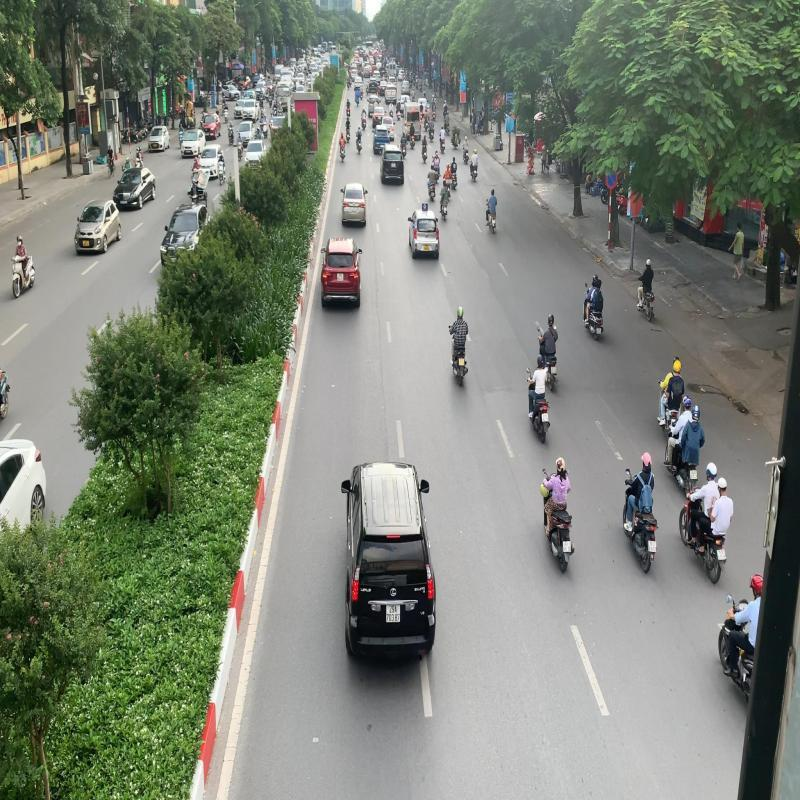helmet: (556, 458, 566, 473), (642, 451, 652, 466)
licenseplate: (562, 540, 572, 552), (648, 540, 656, 552)
motorcyclist: (620, 450, 660, 576), (540, 456, 576, 574)
